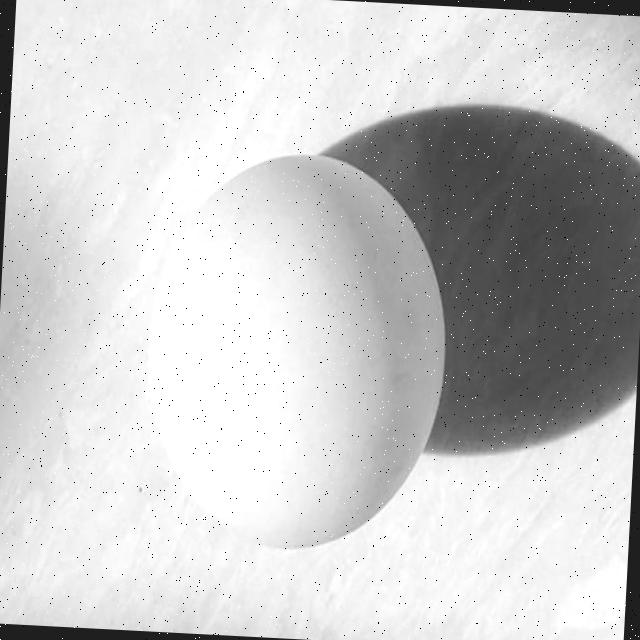ping-pong-ball: (144, 146, 454, 552)
